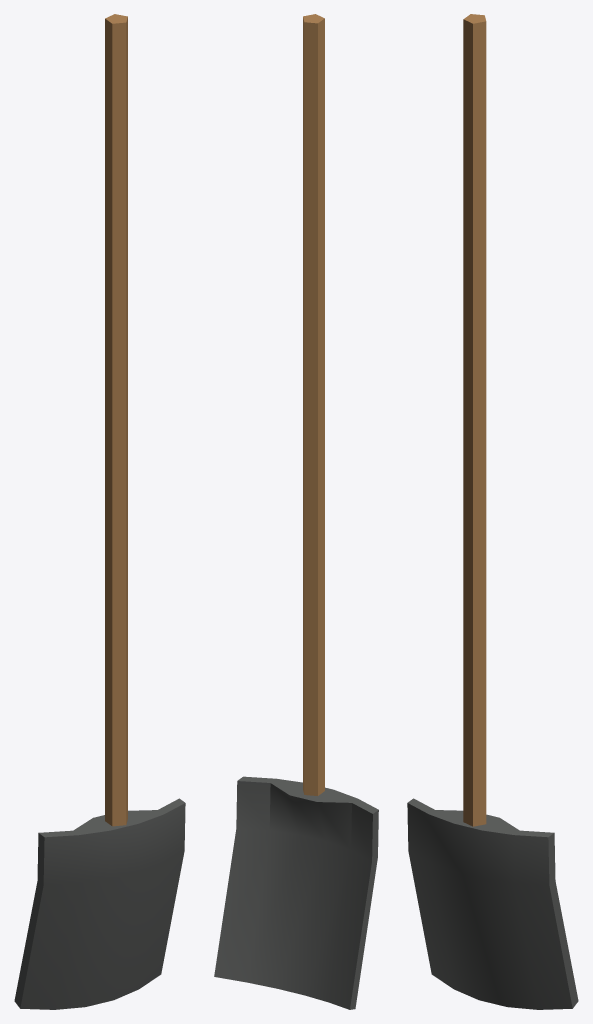
The model's file is spade.fbx.
The picture shows the model from 3 angles, left to right: view 1: azimuth 30°, elevation 25°; view 2: azimuth 150°, elevation 25°; view 3: azimuth 330°, elevation 25°; orthographic projection. The views are drawn at different scales.
Parts seen in each view (by area): view 1: Spade; view 2: Spade; view 3: Spade.
Part boxes in pixels (x1,y1,x2,y2): Spade: (14, 14, 185, 1009); Spade: (214, 14, 378, 1009); Spade: (407, 14, 578, 1009).
Bounding box in the file's own units: 2.14 × 14.49 × 1.05.
